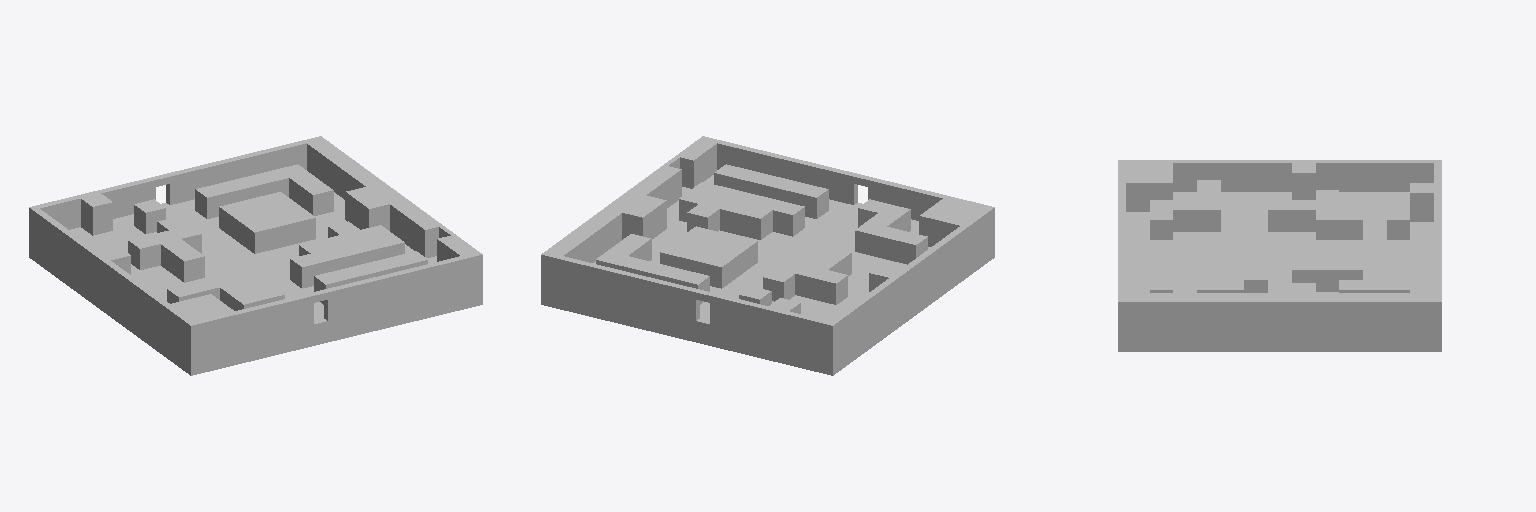
File: maze_roofless 1.obj
The picture shows the model from 3 angles: view 1: azimuth 30°, elevation 25°; view 2: azimuth 150°, elevation 25°; view 3: azimuth 270°, elevation 25°; orthographic projection.
Visible parts, largest first — view 1: object 1; view 2: object 1; view 3: object 1.
Boxes of the visible parts, x1=… form: object 1: x1=29, y1=136, x2=482, y2=375; object 1: x1=541, y1=136, x2=994, y2=375; object 1: x1=1118, y1=160, x2=1441, y2=351.
Size of the model in its own units: 25.6 by 4.2 by 24.6.